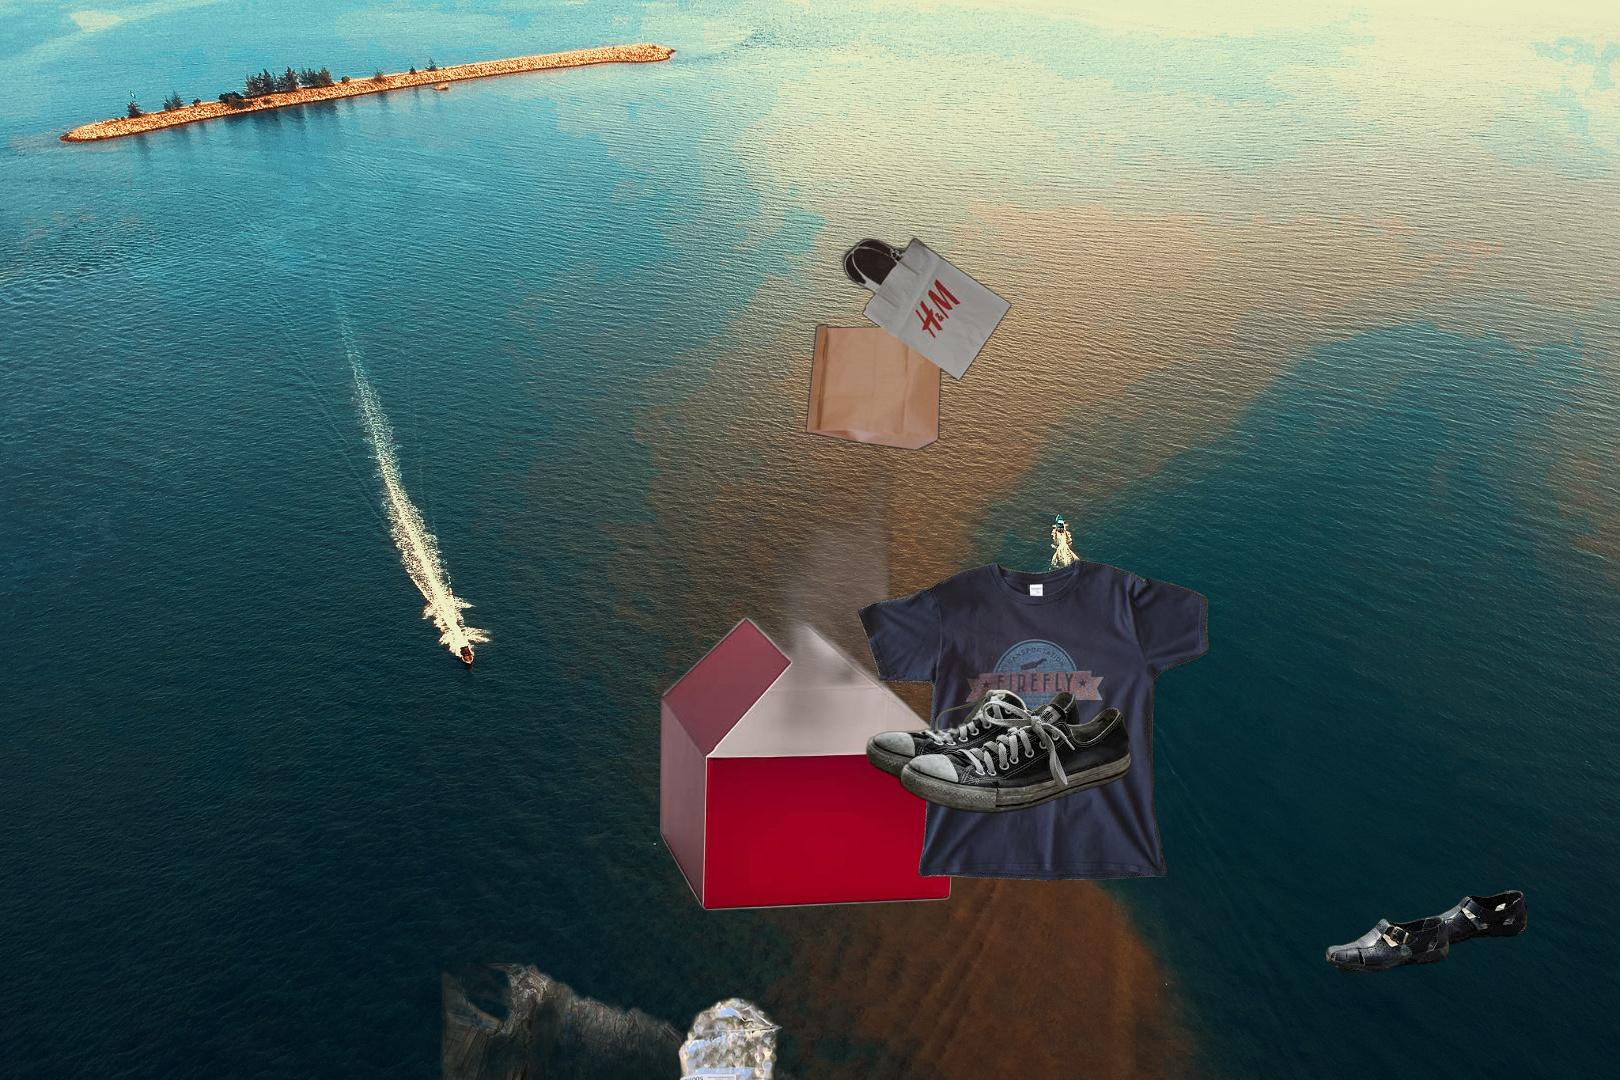clothes: (855, 554, 1216, 885)
paper-bag: (803, 234, 1014, 453)
plastic-bottles: (673, 990, 787, 1080)
shoes: (865, 686, 1133, 816), (1323, 884, 1530, 975)
trashbox-cardboard: (653, 436, 972, 918), (378, 963, 879, 1080)
